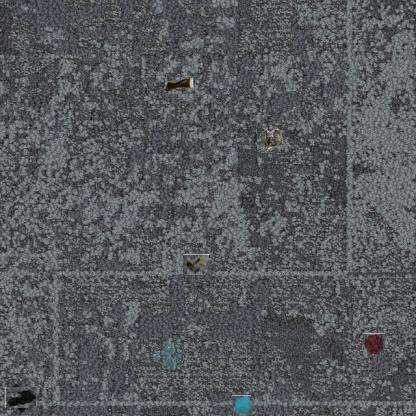dirty: (8, 384, 34, 411), (259, 126, 284, 152), (184, 253, 209, 277), (165, 78, 195, 96), (231, 395, 252, 416)
liquid: (156, 344, 180, 368), (363, 333, 386, 356)
